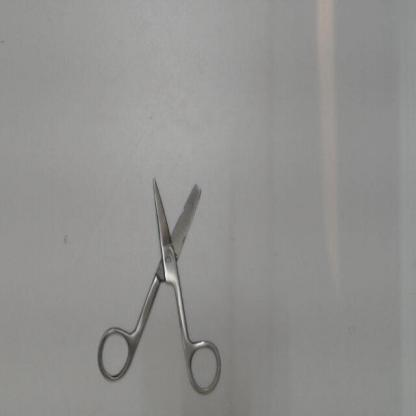Dressing Scissors: (91, 158, 226, 400)
